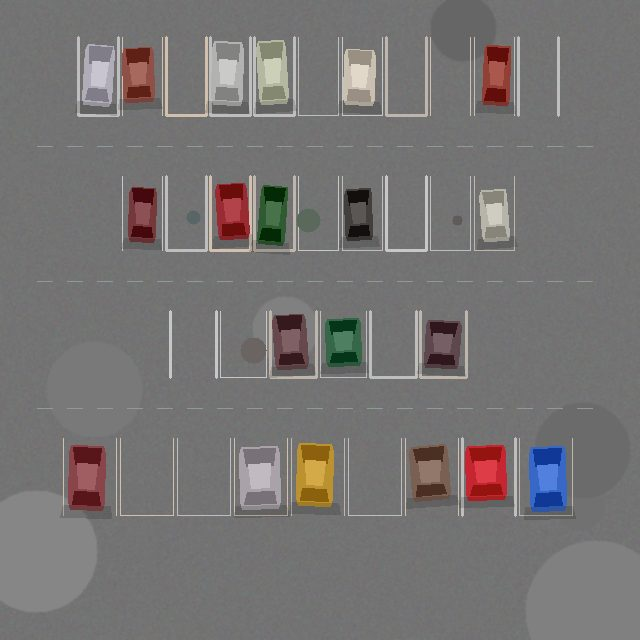space-empty: (120, 438, 173, 515), (177, 438, 230, 515), (348, 438, 401, 515), (166, 37, 206, 115), (298, 37, 338, 115), (386, 37, 426, 115), (430, 37, 470, 115), (518, 37, 558, 115), (170, 311, 216, 377), (220, 311, 266, 377), (370, 311, 416, 377), (166, 176, 206, 250), (298, 176, 338, 250), (386, 176, 426, 250), (430, 176, 470, 250)
space-occupied: (63, 438, 116, 515), (234, 438, 287, 515), (291, 438, 344, 515), (405, 438, 458, 515), (462, 438, 515, 515), (519, 438, 572, 515), (78, 37, 118, 115), (122, 37, 162, 115), (210, 37, 250, 115), (254, 37, 294, 115), (342, 37, 382, 115), (474, 37, 514, 115), (270, 311, 316, 377), (320, 311, 366, 377), (420, 311, 466, 377), (122, 176, 162, 250), (210, 176, 250, 250), (254, 176, 294, 250), (342, 176, 382, 250), (474, 176, 514, 250)
